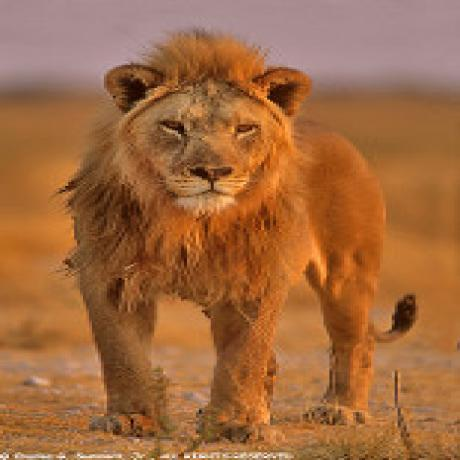Lion: (66, 30, 421, 441)
